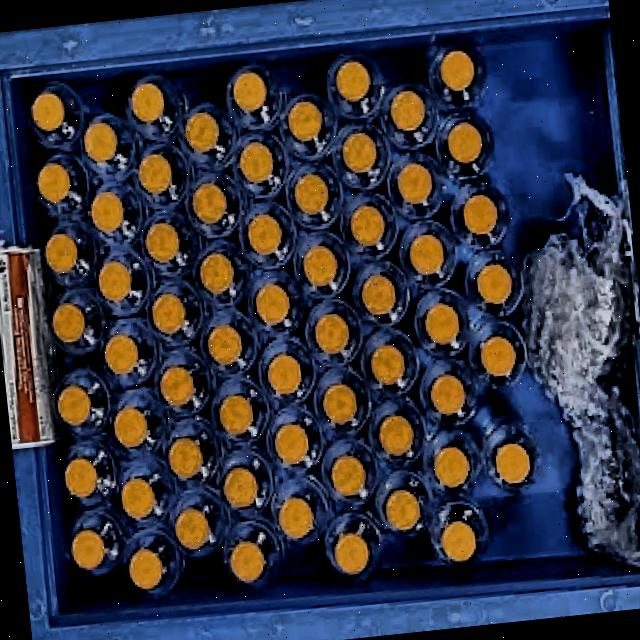vial: (490, 438, 537, 495), (354, 272, 400, 318), (376, 412, 419, 461), (459, 190, 501, 240), (434, 48, 478, 94), (384, 486, 426, 534), (421, 302, 463, 348), (27, 90, 69, 136), (48, 299, 90, 345), (474, 260, 514, 308), (332, 57, 372, 105), (430, 442, 470, 490), (156, 364, 199, 408), (251, 282, 292, 328), (244, 213, 284, 260), (182, 110, 221, 158), (332, 530, 371, 578), (438, 520, 482, 562), (224, 540, 266, 584), (319, 383, 360, 428), (348, 203, 387, 250), (302, 245, 344, 288), (214, 394, 256, 437), (111, 404, 152, 448), (444, 120, 484, 165), (272, 422, 312, 467), (167, 434, 204, 482), (190, 182, 230, 226), (33, 160, 73, 204), (126, 548, 166, 592), (340, 130, 378, 176), (119, 476, 157, 522), (480, 336, 520, 379), (236, 142, 276, 185), (204, 322, 244, 365), (197, 252, 236, 296), (427, 372, 465, 417), (408, 232, 445, 278), (388, 89, 428, 131), (368, 344, 408, 386), (80, 120, 120, 162), (285, 101, 324, 144), (102, 332, 140, 376), (329, 454, 367, 498), (276, 494, 314, 538), (173, 508, 211, 552), (70, 528, 106, 574), (229, 70, 268, 112), (148, 294, 187, 336), (292, 173, 330, 216), (142, 221, 180, 264), (42, 233, 80, 276), (221, 468, 259, 511), (396, 162, 433, 206), (136, 150, 173, 194), (314, 312, 352, 354), (129, 83, 167, 125), (96, 260, 134, 302), (266, 354, 303, 396), (90, 190, 126, 233), (64, 458, 100, 501), (56, 384, 92, 424)
